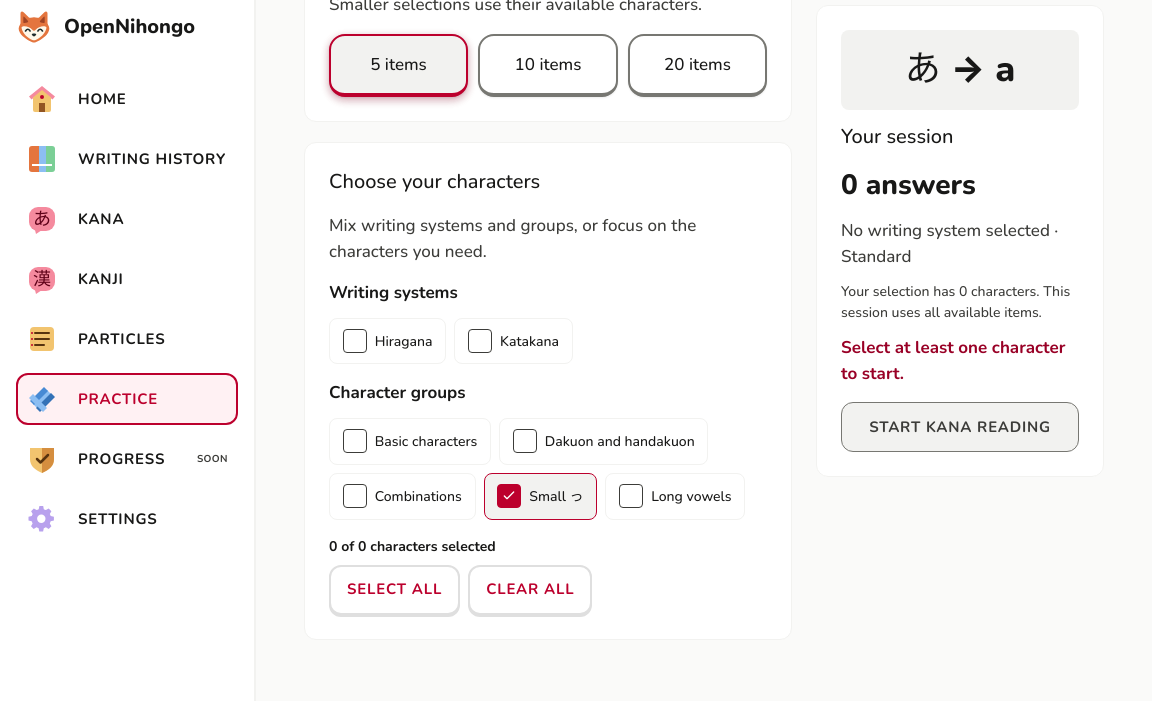
it: allows empty writing-system choices and selects or clears a complete character row
(page scrolled)
Expected: the text "No writing system selected · Standard" is shown, [841, 218, 1079, 269]
Expected: the button "Start Kana reading" is disabled, [841, 402, 1079, 452]
Click the checkbox labelled "Hiragana": point(355, 341) [343, 329, 367, 353]
(page scrolled)
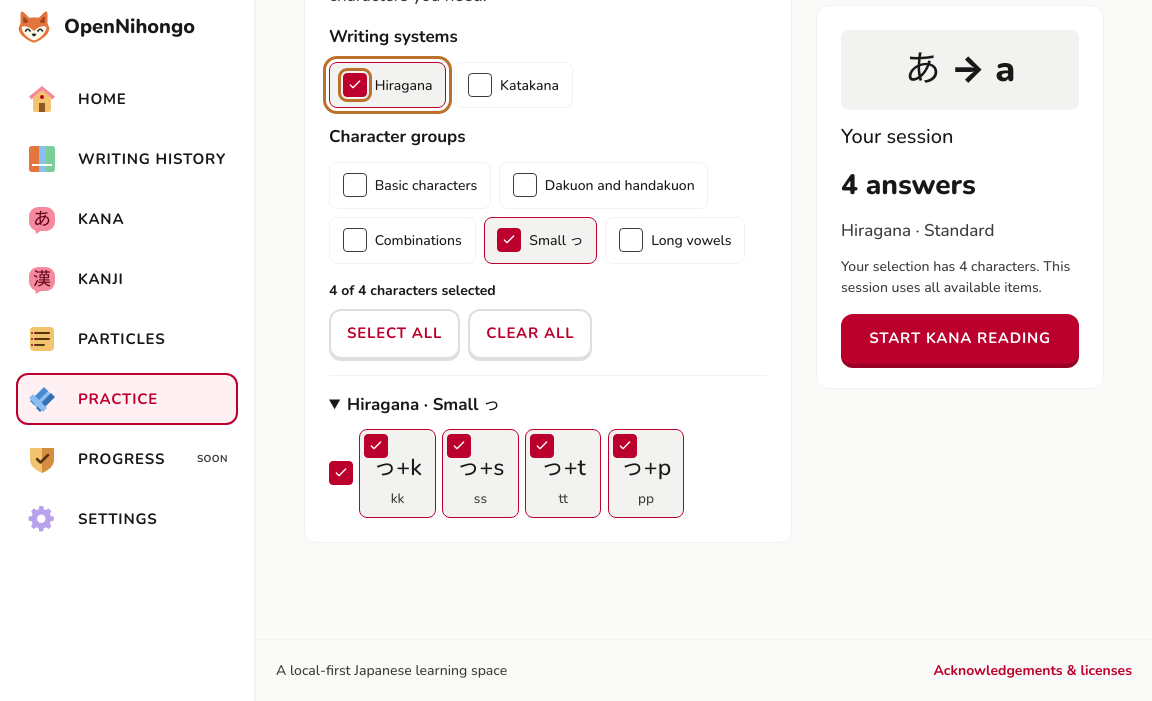
Click the checkbox named "Select Hiragana Small っ row 1": point(341, 474) [329, 462, 353, 486]
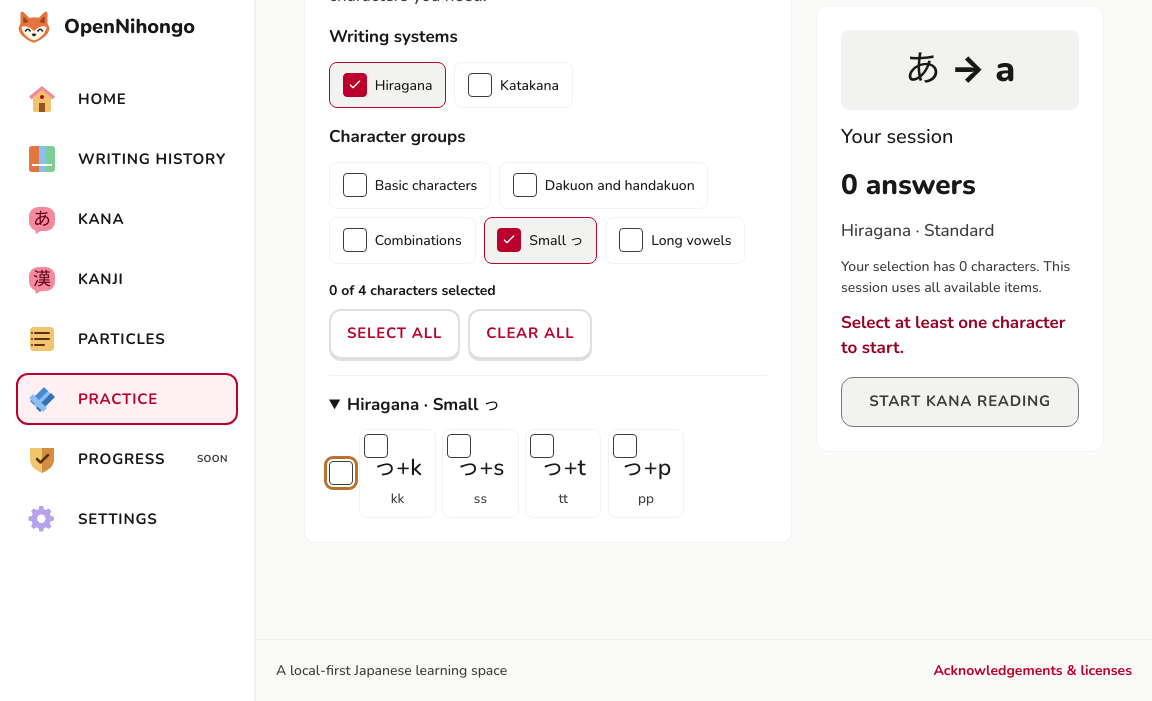
Click the checkbox named "Select Hiragana Small っ row 1": point(341, 474) [329, 462, 353, 486]
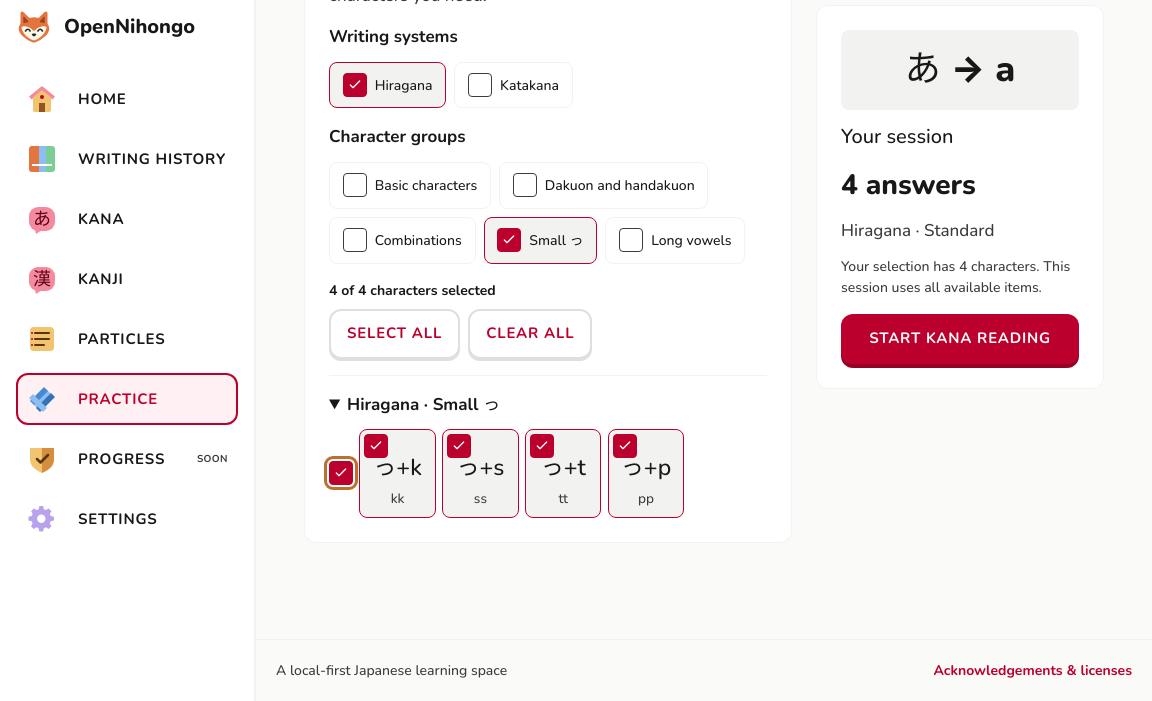
Click the checkbox labelled "Hiragana": point(355, 85) [343, 73, 367, 97]
(page scrolled)
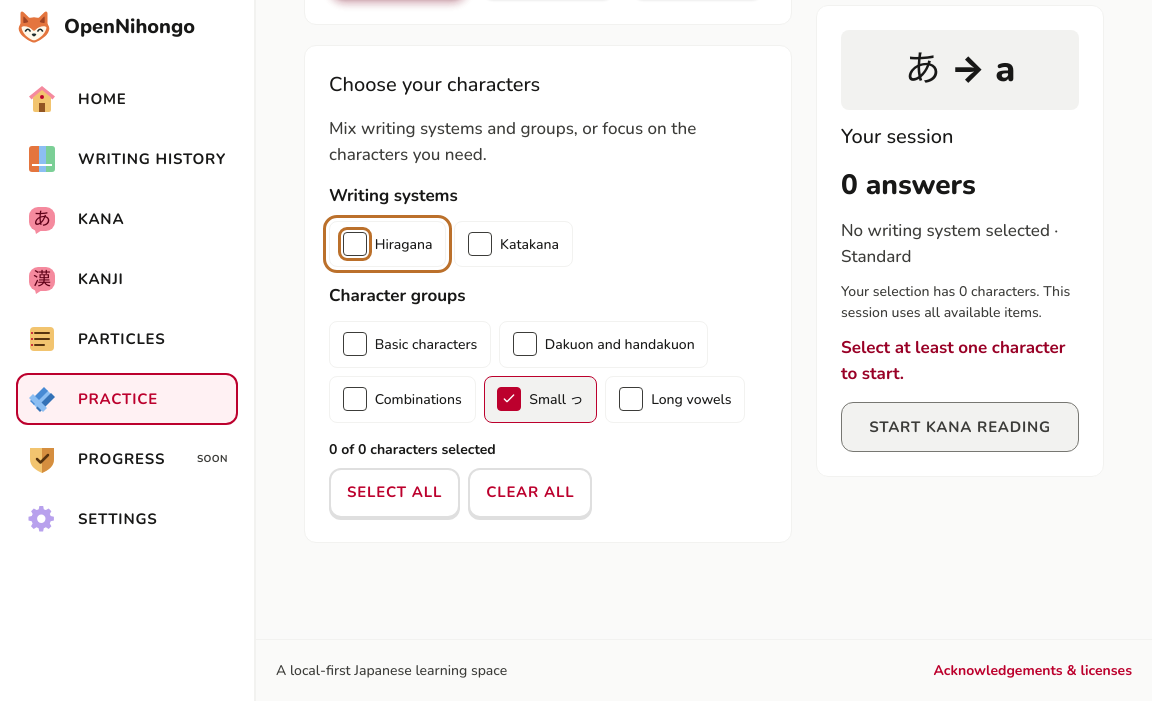
Now the button "Start Kana reading" is disabled, box [841, 402, 1079, 452]
